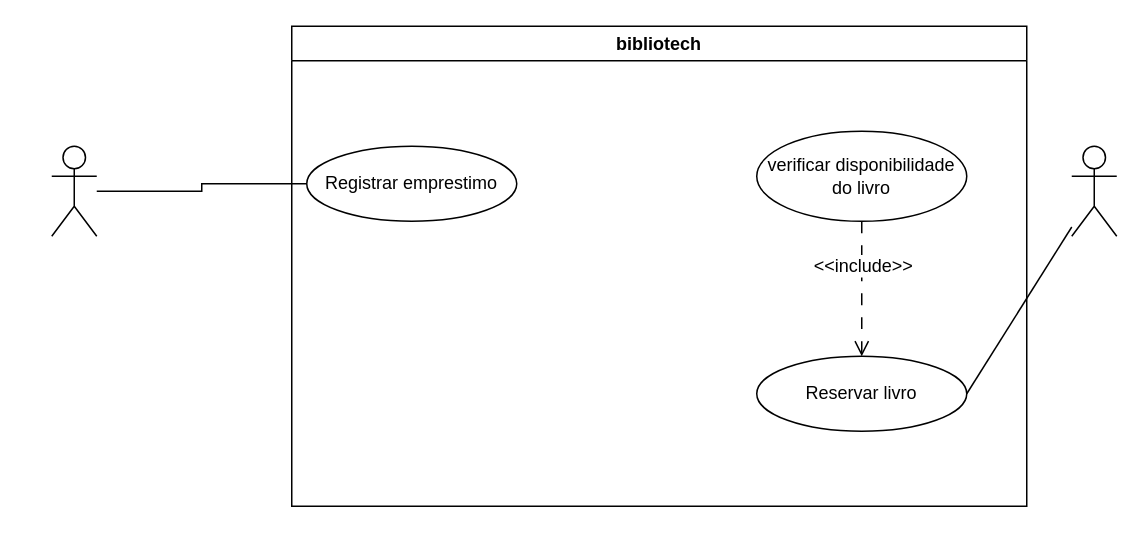
Image size: 1143x533. Some labels were removed from this diagram. The shapes that lost their labels are listed below. From the top down, each one's box as (x1, y1, x2, y2) in pixels, then its label:
(50, 145, 97, 236): Bibliotecario
(1070, 145, 1117, 236): Leitor
